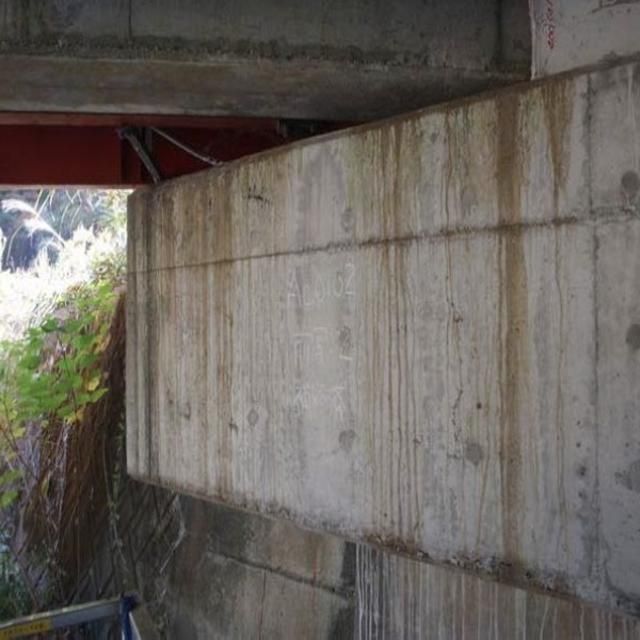leakage: (483, 74, 556, 596), (132, 184, 245, 479), (361, 121, 420, 544)
